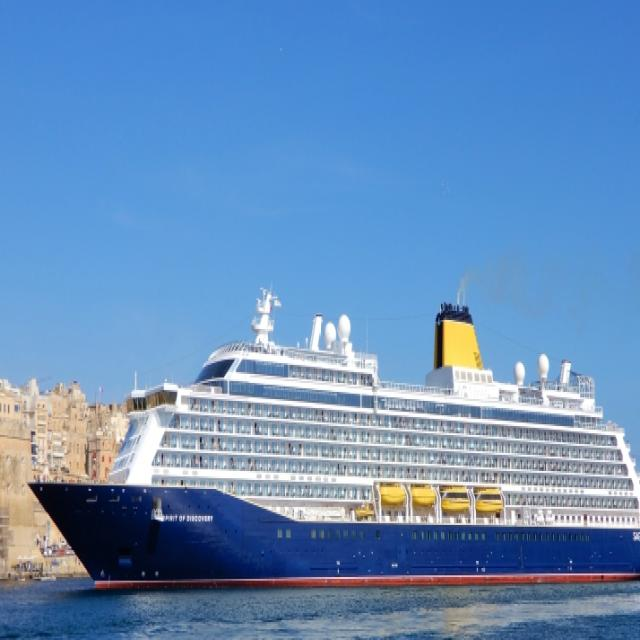cruises: (25, 289, 640, 600)
